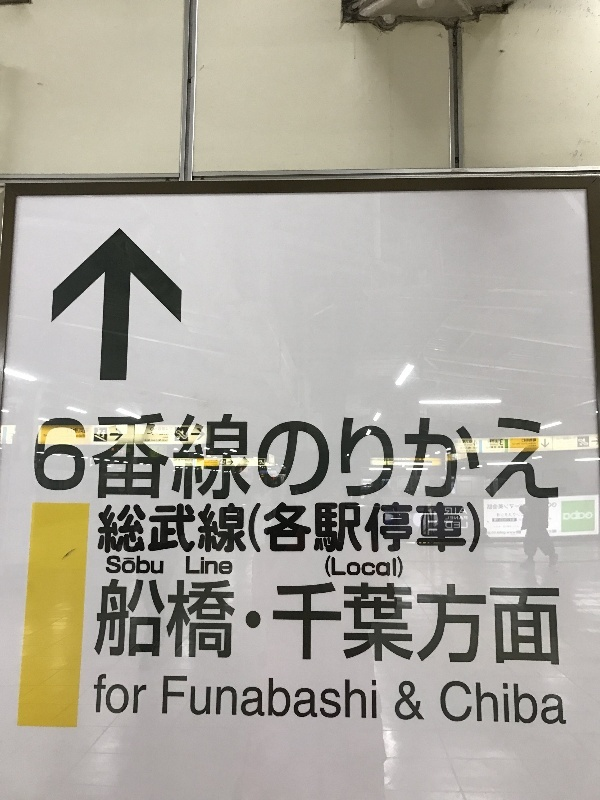text: (545, 405, 561, 505), (49, 405, 64, 505), (65, 405, 80, 505), (81, 405, 96, 505), (97, 405, 112, 505), (113, 405, 128, 505), (129, 405, 144, 505), (145, 405, 160, 505), (161, 405, 176, 505), (177, 405, 192, 505), (193, 405, 208, 505), (209, 405, 224, 505), (225, 405, 240, 505), (241, 405, 256, 505), (257, 405, 272, 505), (273, 405, 288, 505), (289, 405, 304, 505), (305, 405, 320, 505), (321, 405, 336, 505), (337, 405, 352, 505), (353, 405, 368, 505), (369, 405, 384, 505), (385, 405, 400, 505), (401, 405, 416, 505), (417, 405, 432, 505), (433, 405, 448, 505), (449, 405, 464, 505), (465, 405, 480, 505), (481, 405, 496, 505), (497, 405, 512, 505), (513, 405, 528, 505), (529, 405, 544, 505), (97, 574, 112, 673), (113, 574, 128, 673), (129, 574, 144, 673), (145, 574, 160, 673), (161, 574, 176, 673), (177, 574, 192, 673), (193, 574, 208, 673), (209, 574, 224, 673), (225, 574, 240, 673), (241, 574, 256, 673), (257, 574, 272, 673), (273, 574, 288, 673), (289, 574, 304, 673), (305, 574, 320, 673), (321, 574, 336, 673), (337, 574, 352, 673), (353, 574, 368, 673), (369, 574, 384, 673), (385, 574, 400, 673), (401, 574, 416, 673), (417, 574, 432, 673), (433, 574, 448, 673), (449, 574, 464, 673), (465, 574, 480, 673), (481, 574, 496, 673), (497, 574, 512, 673), (513, 574, 528, 673), (529, 574, 544, 673), (545, 574, 560, 673), (36, 405, 48, 505), (97, 500, 112, 561), (113, 500, 128, 561), (129, 500, 144, 561), (145, 500, 160, 561), (161, 500, 176, 561), (177, 500, 192, 561), (193, 500, 208, 561), (209, 500, 224, 561), (225, 500, 240, 561), (241, 500, 256, 561), (257, 500, 272, 561), (273, 500, 288, 561), (289, 500, 304, 561), (305, 500, 320, 561), (321, 500, 336, 561), (337, 500, 352, 561), (353, 500, 368, 561), (369, 500, 384, 561), (385, 500, 400, 561), (401, 500, 416, 561), (417, 500, 432, 561), (433, 500, 448, 561), (449, 500, 464, 561), (465, 500, 480, 561), (449, 680, 464, 730), (465, 680, 480, 730), (481, 680, 496, 730), (497, 680, 512, 730), (513, 680, 528, 730), (529, 680, 544, 730), (545, 680, 560, 730), (177, 675, 192, 722), (193, 675, 208, 722), (209, 675, 224, 722), (225, 675, 240, 722), (241, 675, 256, 722), (257, 675, 272, 722), (273, 675, 288, 722), (289, 675, 304, 722), (305, 675, 320, 722), (321, 675, 336, 722), (337, 675, 352, 722), (353, 675, 368, 722), (97, 673, 112, 719), (113, 673, 128, 719), (129, 673, 144, 719), (401, 680, 416, 725), (163, 675, 176, 722), (497, 503, 512, 536), (369, 675, 378, 722), (337, 554, 352, 580), (353, 554, 368, 580), (369, 554, 384, 580), (385, 554, 400, 580), (449, 506, 464, 531), (513, 503, 524, 536), (417, 680, 425, 725), (441, 680, 448, 730), (561, 680, 568, 730), (113, 555, 128, 576), (129, 555, 144, 576), (145, 555, 160, 576), (193, 556, 208, 576), (209, 556, 224, 576), (561, 574, 564, 673), (487, 503, 496, 536), (325, 554, 336, 580), (394, 680, 400, 725), (465, 440, 478, 454), (225, 556, 233, 576), (577, 512, 592, 522), (145, 673, 148, 719), (563, 512, 576, 522), (106, 555, 112, 576), (455, 440, 464, 454), (443, 506, 448, 531), (481, 500, 483, 561), (186, 556, 192, 576), (95, 574, 96, 673), (94, 673, 96, 719), (465, 506, 468, 531), (161, 555, 164, 576), (497, 440, 504, 449), (490, 440, 496, 449), (401, 554, 403, 580), (593, 512, 595, 522)
